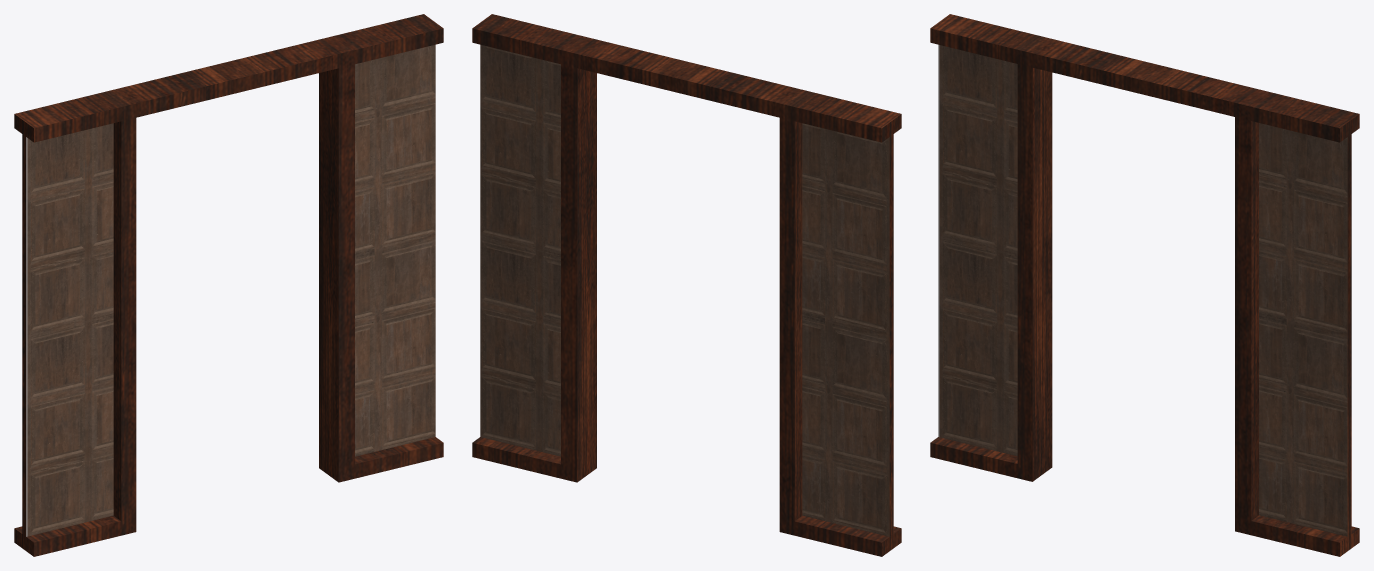
File: Doorway.fbx
The picture shows the model from 3 angles, left to right: view 1: azimuth 30°, elevation 25°; view 2: azimuth 150°, elevation 25°; view 3: azimuth 330°, elevation 25°; orthographic projection.
Parts seen in each view (by area): view 1: Doorway; view 2: Doorway; view 3: Doorway.
Boxes of the visible parts, left/top/right/bottom form: Doorway: left=14, top=14, right=443, bottom=556; Doorway: left=472, top=14, right=901, bottom=556; Doorway: left=930, top=14, right=1359, bottom=556.
Size of the model in its own units: 300 by 300 by 25.
